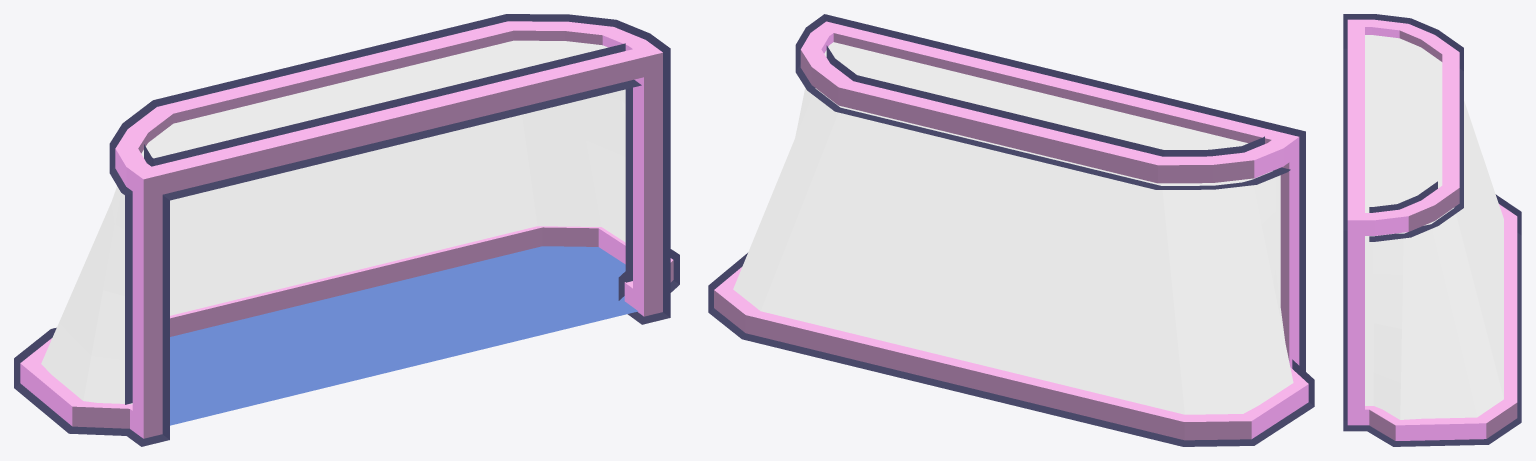
File: net_standard.glb
The picture shows the model from 3 angles, left to right: view 1: azimuth 30°, elevation 25°; view 2: azimuth 150°, elevation 25°; view 3: azimuth 270°, elevation 25°; orthographic projection. The views are drawn at different scales.
Visible parts, largest first — view 1: standard_netting, standard_frame, standard_shadow, standard_outline; view 2: standard_netting, standard_frame, standard_outline; view 3: standard_netting, standard_frame, standard_outline.
Boxes of the visible parts, box(x1,y1,x2,y2) form: standard_netting: box(41, 40, 625, 404); standard_frame: box(20, 21, 673, 438); standard_shadow: box(170, 246, 638, 425); standard_outline: box(14, 14, 679, 446); standard_netting: box(733, 42, 1293, 414); standard_frame: box(714, 21, 1308, 440); standard_outline: box(708, 14, 1314, 446); standard_netting: box(1365, 35, 1503, 419); standard_frame: box(1347, 19, 1517, 440); standard_outline: box(1343, 14, 1521, 446).
Size of the model in its own units: 2.56 by 1.08 by 0.82.
